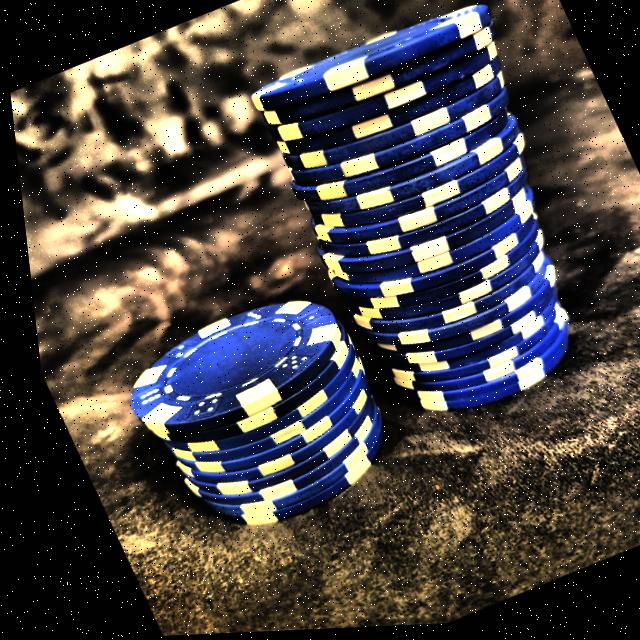Chip: (204, 0, 640, 462), (85, 240, 426, 573)
